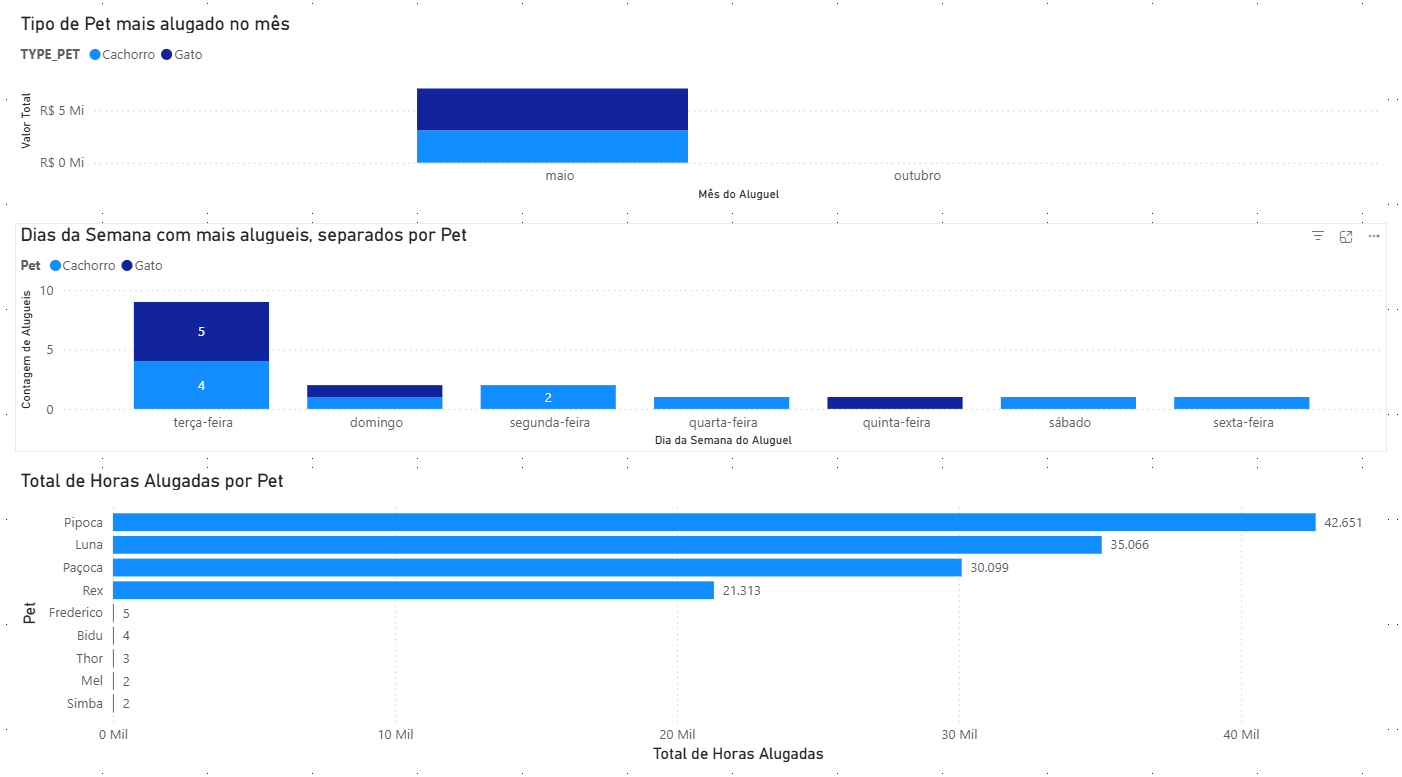

What the dashboard file says about the page in this screenshot:
{"tool":"powerbi","page":{"name":"Página 1","canvas":[1280,720],"ordinal":0},"visuals":[{"type":"columnChart","title":"Tipo de Pet mais alugado no mês","fields":{"Y":["Sum(DB_T2_DIONISIO_JUNIOR TB_RENTS_FINAL.TOTAL_VALUE)"],"Category":["DB_T2_DIONISIO_JUNIOR TB_RENTS_FINAL.Mês do Aluguel"],"Series":["DB_T2_DIONISIO_JUNIOR TB_PETS_FINAL.TYPE_PET"]},"box":[16,16,1248,176],"z":0},{"type":"columnChart","title":"Dias da Semana com mais alugueis, separados por Pet","fields":{"Y":["CountNonNull(DB_T2_DIONISIO_JUNIOR TB_RENTS_FINAL.ID_RENT)"],"Category":["DB_T2_DIONISIO_JUNIOR TB_RENTS_FINAL.Dia da Semana do Aluguel"],"Series":["DB_T2_DIONISIO_JUNIOR TB_PETS_FINAL.TYPE_PET"]},"box":[16,208,1248,208],"z":1},{"type":"barChart","fields":{"Y":["Sum(DB_T2_DIONISIO_JUNIOR TB_RENTS_FINAL.HOURS)"],"Category":["DB_T2_DIONISIO_JUNIOR TB_PETS_FINAL.NAME_PET"]},"box":[16,432,1248,272],"z":2}]}

Visuals, with their boxes in screenshot pixels (x1, y1, x2, y2), scaled from the page's 1280x720 canvas onto the 1402x777 screenshot:
"Tipo de Pet mais alugado no mês" columnChart: (left=18, top=17, right=1384, bottom=207)
"Dias da Semana com mais alugueis, separados por Pet" columnChart: (left=18, top=224, right=1384, bottom=449)
barChart - Sum(DB_T2_DIONISIO_JUNIOR TB_RENTS_FINAL.HOURS) x DB_T2_DIONISIO_JUNIOR TB_PETS_FINAL.NAME_PET: (left=18, top=466, right=1384, bottom=760)
